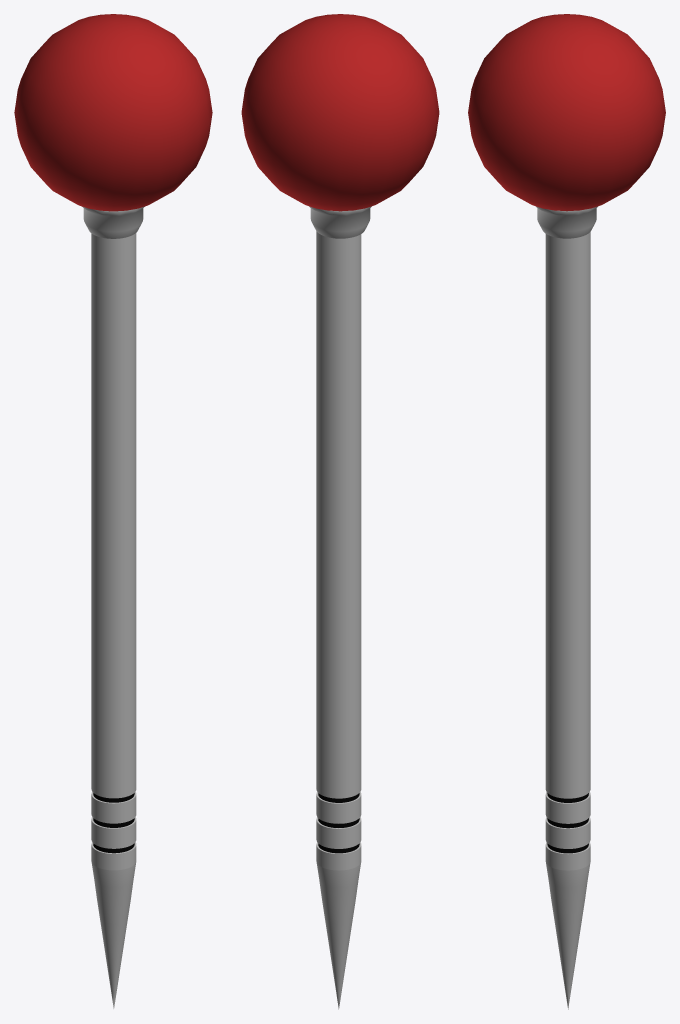
Rendered from FIREBICK.glb.
3 renders of one model, left to right at view 1: azimuth 30°, elevation 25°; view 2: azimuth 150°, elevation 25°; view 3: azimuth 270°, elevation 25°, orthographic.
Parts seen in each view (by area): view 1: Needle, Sphere, Ball_Holder; view 2: Needle, Sphere, Ball_Holder; view 3: Needle, Sphere, Ball_Holder.
Part boxes in pixels (x1,y1,x2,y2): Needle: [91, 233, 136, 1008]; Sphere: [14, 14, 212, 211]; Ball_Holder: [82, 206, 144, 238]; Needle: [316, 231, 361, 1009]; Sphere: [241, 14, 439, 211]; Ball_Holder: [309, 206, 371, 238]; Needle: [545, 232, 590, 1009]; Sphere: [468, 14, 665, 211]; Ball_Holder: [536, 206, 597, 238].
Bounding box in the file's own units: 2.2 × 12.1 × 2.2.
